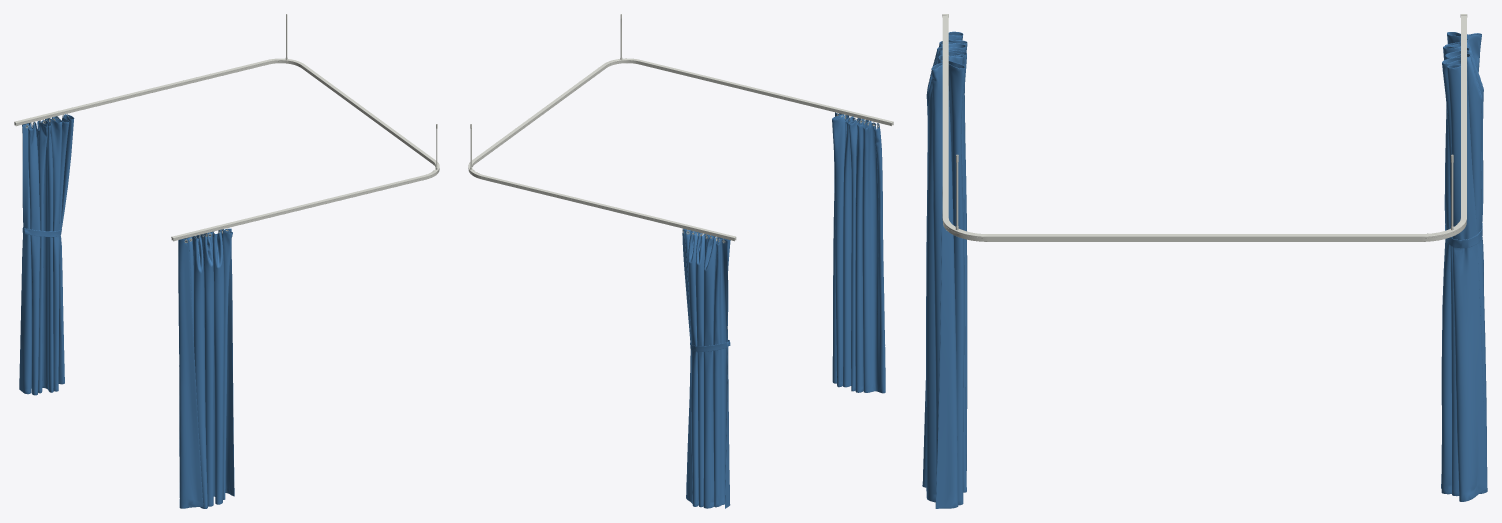
File: screen_hospital_b09.glb
The picture shows the model from 3 angles, left to right: view 1: azimuth 30°, elevation 25°; view 2: azimuth 150°, elevation 25°; view 3: azimuth 270°, elevation 25°; orthographic projection. The views are drawn at different scales.
Bounding box in the file's own units: 3.14 × 3.46 × 3.37.
